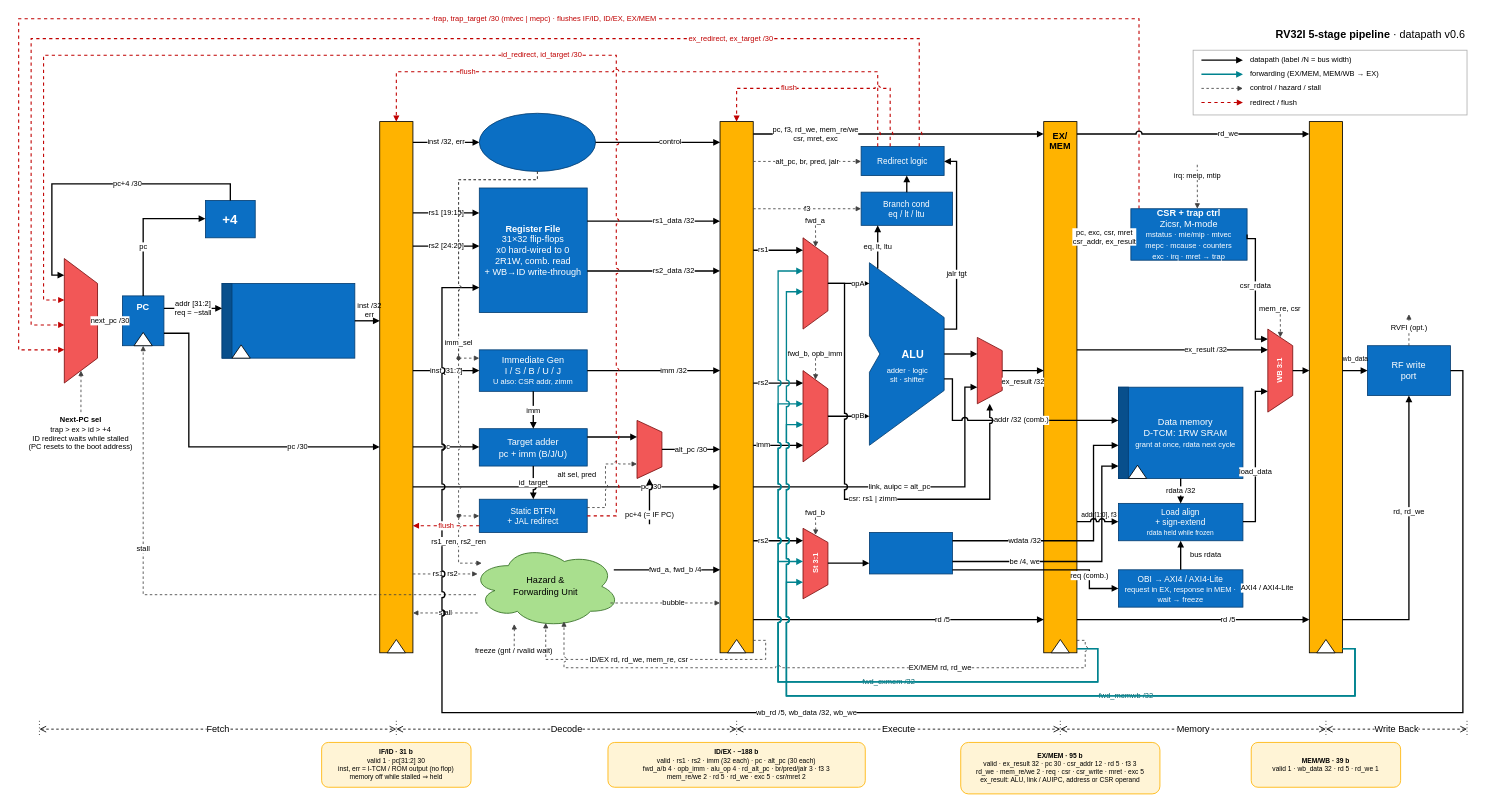
Image size: 1490x809. Some labels were removed from this diagram. The box of each missing label's shape, as (x1, y1, x2, y2) in pixels:
alt_pc: (636, 420, 662, 478)
Control Unit / Decoder: (478, 112, 596, 171)
ID/EX: (719, 121, 753, 653)
IF/ID: (379, 121, 413, 653)
Instruction memory I-TCM: 1RW SRAM + boot ROM, sync read: (221, 283, 355, 358)
MEM/ WB: (1308, 121, 1343, 653)
Next-PC: (63, 258, 98, 383)
OpA 3:1: (802, 237, 828, 329)
OpB 4:1: (802, 370, 828, 462)
Result 3:1: (976, 337, 1002, 404)
Store align + byte enables: (869, 532, 952, 574)
